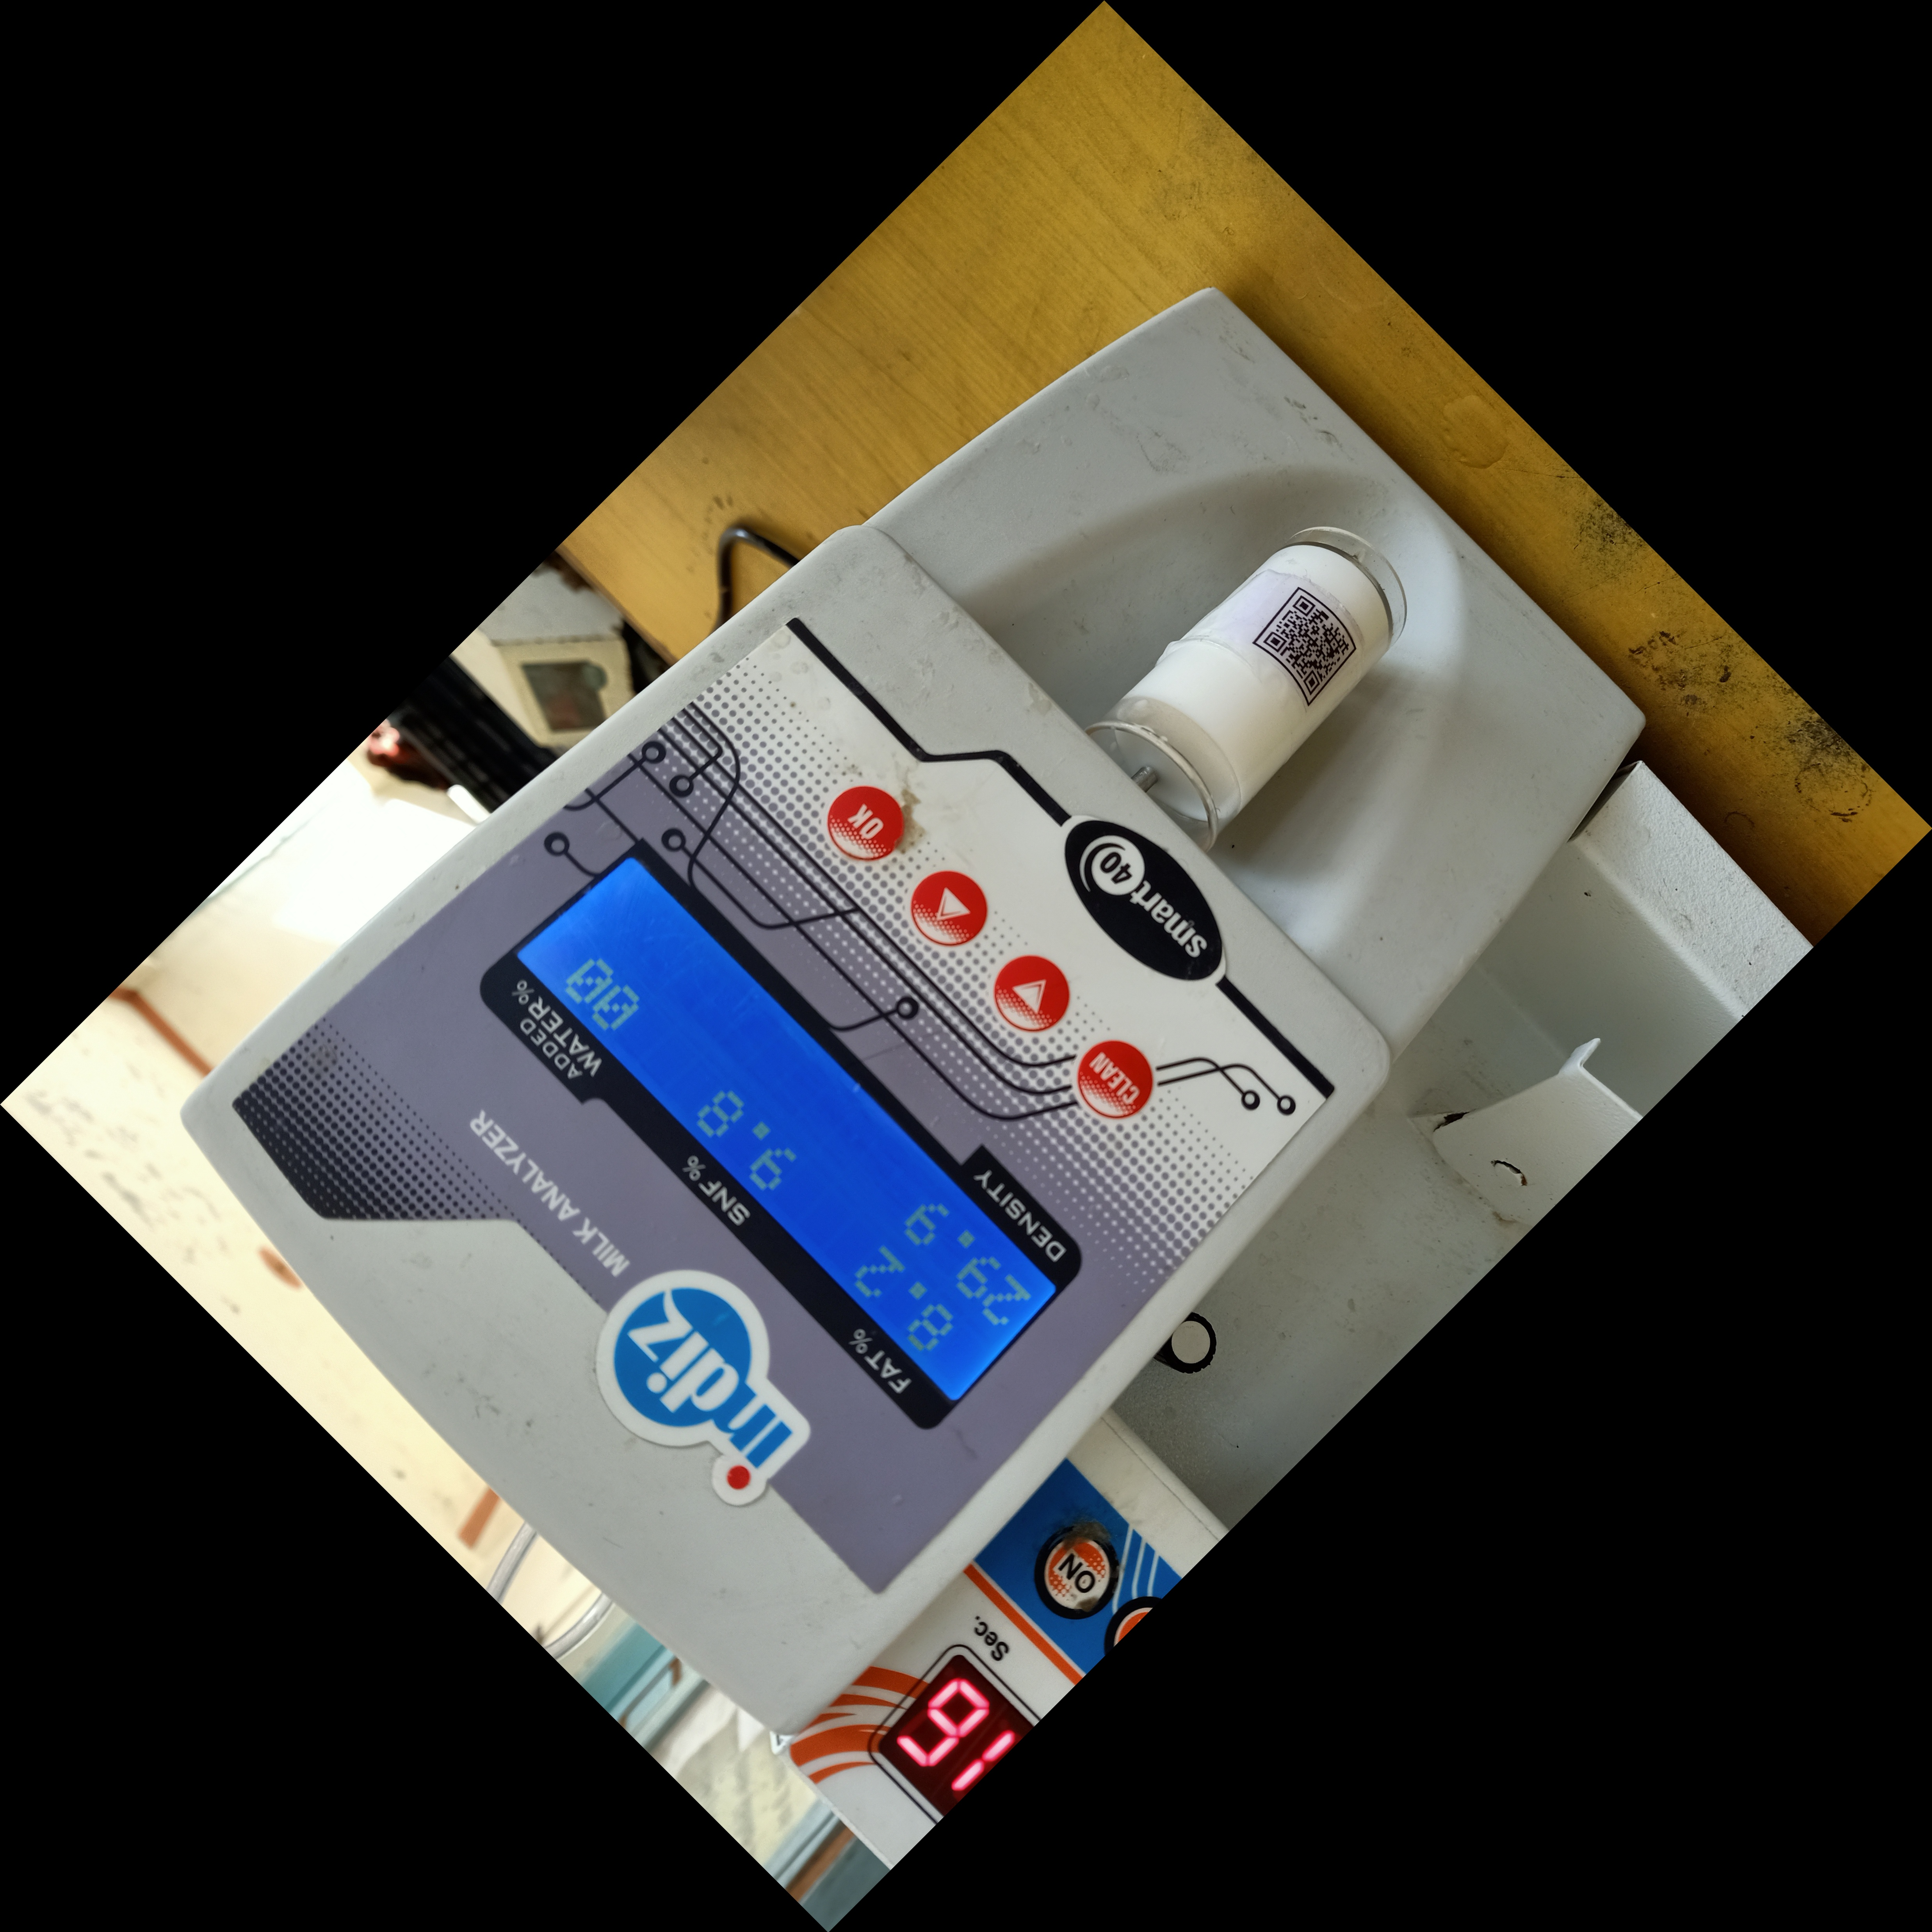lcd: (472, 824, 1099, 1428)
qr: (1249, 587, 1369, 717)
